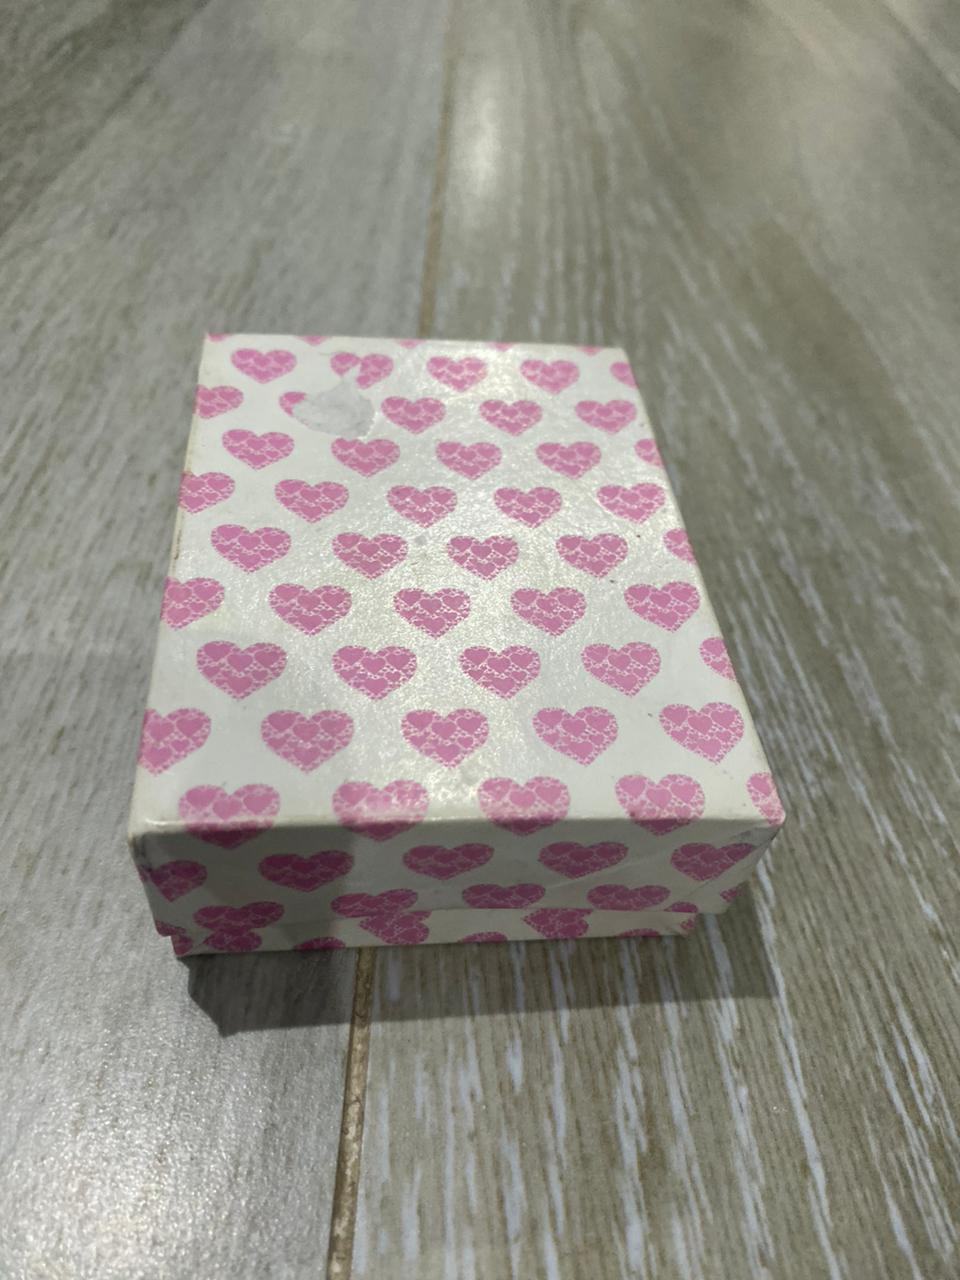Pink Box: (124, 319, 791, 974)
